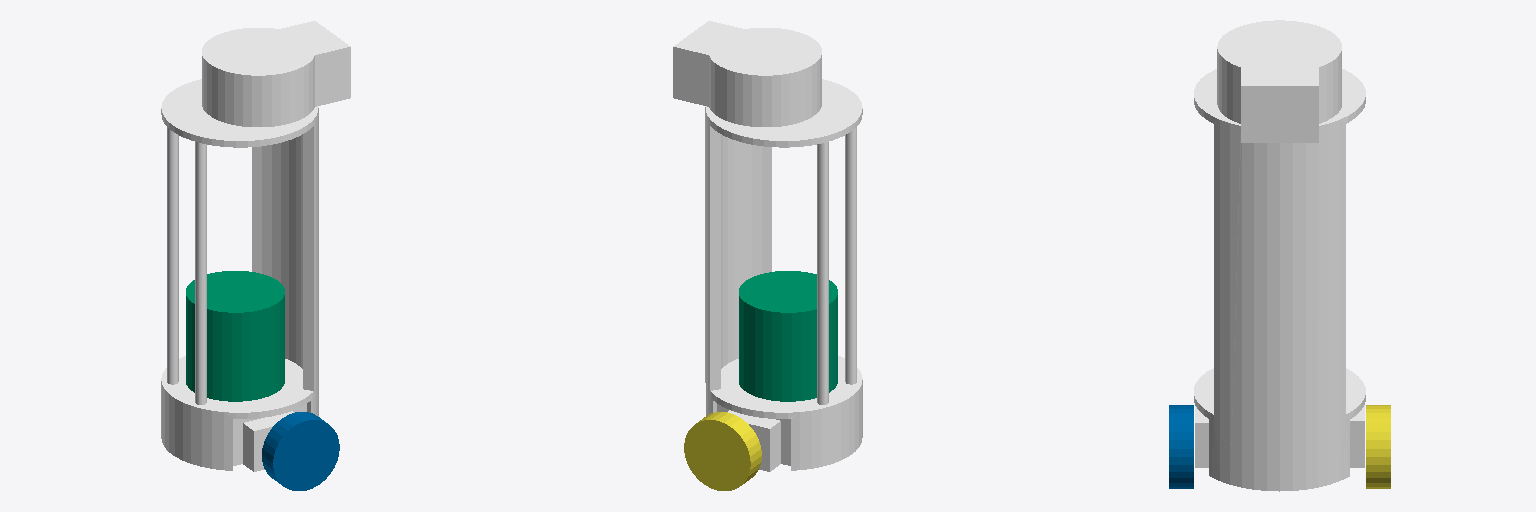
The robot description file, URDF, robot "patrol_robot":
<?xml version="1.0" ?>
<robot name="patrol_robot">

  <link name="base_footprint"/>

  <link name="base_link">
    <inertial>
      <mass value="2"/>
      <origin xyz="0.2 0.1397 0.01" rpy="1.5708 0 -1.5708" />
      <inertia
        ixx="0.0635" ixy="0.0" ixz="0.0"
        iyy="0.0635" iyz="0.0"
        izz="0.0651"/>
    </inertial>

    <visual>
      <origin xyz="0.2 0.1397 0.01" rpy="1.5708 0 -1.5708" /> 
      <geometry>
        <mesh filename="package://robot_desc/meshes/body_link2.stl" scale="0.001 0.001 0.001"/>
      </geometry>
      <material name="white">
        <color rgba="1 1 1 1"/>
      </material>
    </visual>

    <collision>
      <geometry>
        <mesh filename="package://robot_desc/meshes/body_link2.stl" scale="0.001 0.001 0.001"/>
    </geometry>
      <contact_coefficients mu="1" mu2="1" kp="1e+13.0" kd="1.0"/>
    </collision>
  </link>

  <joint name="base_joint" type="fixed">
      <parent link="base_footprint"/>
      <child link="base_link"/>
      <origin xyz="0 0 0.04" rpy="0 0 0"/>
  </joint>

  <link name="weight">
    <inertial>
      <mass value="7"/>
      <inertia ixx="0.03225" ixy="0.0"  ixz="0.0" iyy="0.03225" iyz="0.0" izz="0.02764"/>
      <origin xyz="0 0 0" rpy="0 0 0"/>
    </inertial>
    <visual>
        <geometry>
            <cylinder length="0.1778" radius="0.0889" />
        </geometry>
    </visual>
    <collision>
        <geometry>
            <cylinder length="0.1778" radius="0.0889" />
        </geometry>
    </collision>    
  </link>
  <joint name="weight_joint" type="fixed">
      <parent link="base_footprint"/>
      <child link="weight"/>
      <origin xyz="0 0 0.25" rpy="0 0 0"/>
  </joint>

  <link name="wheel_right">
    <inertial>
      <mass value="0.75"/>
      <inertia ixx="0.001444223" iyy="0.00280875" izz="0.001444223" ixy="0.0" ixz="0.0" iyz="0.0"/>
      <origin xyz="0 0 0" rpy="0 0 0"/>
    </inertial>
    <visual>
        <geometry>
          <cylinder length="0.04" radius="0.06858" />
        </geometry>
    </visual>
    <collision>
        <geometry>
          <cylinder length="0.04" radius="0.06858" />
        </geometry>
    </collision>      
  </link>   
  
  <joint name="wheel_right_joint" type="continuous">
    <origin xyz="0.042 0.16 0.04  " rpy="1.5708 0.0 0.0"/>
    <parent link="base_link"/>
    <child link="wheel_right"/>
    <axis xyz="0.0 0 1"/>
  </joint>

  <link name="wheel_left">
    <inertial>
      <mass value="0.75"/>
      <inertia ixx="0.001444223" iyy="0.00280875" izz="0.001444223" ixy="0.0" ixz="0.0" iyz="0.0" />
      <origin xyz="0 0 0" rpy="0 0 0"/>
    </inertial>
    <visual>
        <geometry>
            <cylinder length="0.04" radius="0.06858" />
        </geometry>
    </visual>
    <collision>
        <geometry>
            <cylinder length="0.04" radius="0.06858" />
        </geometry>
    </collision>    
  </link>
  
  <joint name="wheel_left_joint" type="continuous">
    <origin xyz="0.042 -0.16 0.04" rpy="1.5708 0.0 3.14"/>
    <parent link="base_link"/>
    <child link="wheel_left"/>
    <axis xyz="0.0 0 1"/>
  </joint>
  
  
  <link name="caster">
    <inertial>
      <mass value="1.5"/>
      <inertia ixx="0.0001295" iyy="0.0001295" izz="0.000199322" ixy="0.0" ixz="0.0" iyz="0.0" />
      <origin/>
    </inertial>

    <visual>
      <geometry>
        <mesh filename="package://robot_desc/meshes/front_caster.stl"/>
      </geometry>
      <material name="white">
        <color rgba="1 1 1 1"/>
      </material>
    </visual>

    <collision>
      <geometry>
        <mesh filename="package://robot_desc/meshes/front_caster.stl"/>
      </geometry>
      <contact_coefficients mu="0" kp="1000.0" kd="1.0"/>
    </collision>
  </link>
  
  <joint name="caster_joint" type="continuous">
    <origin xyz="-0.0635 0 -0.01" rpy="0.0 0.0 0.0"/>
    <axis xyz="0 0 1" />
    <parent link="base_link"/>
    <child link="caster"/>
  </joint>  

  <link name="camera_link">
  </link>

  <joint name="camera_joint" type="fixed">
    <origin xyz="-0.16 0.0 0.08" rpy="0 0.0 3.14"/>
    <parent link="base_link"/>
    <child link="camera_link"/>
    <axis xyz="0.0 0.0 1.0"/>
  </joint>

  <gazebo reference="camera_link">
      <sensor type="camera" name="Botcamera">
        <update_rate>30.0</update_rate>
        <camera name="head">
          <horizontal_fov>1.3962634</horizontal_fov>
          <image>
            <width>800</width>
            <height>800</height>
            <format>R8G8B8</format>
          </image>
          <clip>
            <near>0.02</near>
            <far>300</far>
          </clip>
          <noise>
            <type>gaussian</type>
            <mean>0.0</mean>
            <stddev>0.007</stddev>
          </noise>
        </camera>
        <plugin name="camera_controller" filename="libgazebo_ros_camera.so">
          <alwaysOn>true</alwaysOn>
          <updateRate>0.0</updateRate>
          <cameraName>/Botcamera</cameraName>
          <imageTopicName>image_raw</imageTopicName>
          <cameraInfoTopicName>camera_info</cameraInfoTopicName>
          <frameName>camera_link</frameName>
          <hackBaseline>0.07</hackBaseline>
        </plugin>
      </sensor>
      <material>Gazebo/Blue</material>
  </gazebo>

  <joint name="imu_joint" type="fixed">
    <parent link="base_footprint"/>
    <child link="imu_link"/>
    <origin xyz="0.0 0 0" rpy="0 0 0"/>
  </joint>

  <link name="imu_link"/>

  <link name="lidar_link">
    <visual>
        <origin xyz="0 -0.0009 -0.011" rpy="1.5708 0 -1.5708"/>
        <geometry>
            <mesh filename="package://robot_desc/meshes/rplidar.dae" scale="0.001 0.001 0.001"/>
        </geometry>
    </visual> 
    <collision>
        <origin xyz="0 -0.0028 0" rpy="0 0 0"/>
        <geometry>
            <cylinder radius="0.037" length="0.021"/>
        </geometry>
    </collision>
    <inertial>
      <mass value="0.07"/>
      <origin xyz="0 0 0" rpy="0 0 0"/>
      <inertia 
        ixx="0.000262" ixy="0.0" ixz="0.0" 
        iyy="0.000262" iyz="0.0" 
        izz="0.000048"/>
    </inertial>
  </link>

  <joint name="lidar_joint" type="fixed">
      <parent link="base_link"/>
      <child link="lidar_link"/>
      <origin xyz="0 0 0.77" rpy="0 0 0"/>
      <axis xyz="0 0 1"/>
  </joint>

  <gazebo reference="lidar_link">
      <sensor name="lidar" type="ray">
          <pose>0 0 0 0 0 0</pose>
          <always_on>true</always_on>
          <visualize>false</visualize>
          <update_rate>10</update_rate>
          <ray>
              <scan>
                  <horizontal>
                      <samples>360</samples>
                      <min_angle>-3.14</min_angle>
                      <max_angle>3.14</max_angle>
                  </horizontal>
              </scan>
              <range>
                  <min>0.15</min>
                  <max>6.0</max>
                  <!-- <max>12.0</max> -->
                  <resolution>0.01500</resolution>
          </range>
              <noise>
                  <type>gaussian</type>
                  <mean>0.0</mean>
                  <stddev>0.01</stddev>
              </noise>
          </ray>
          <plugin name="lidar_controller" filename="libgazebo_ros_ray_sensor.so">
              <ros>
              <remapping>~/out:=scan</remapping>
              </ros>
              <output_type>sensor_msgs/LaserScan</output_type>
              <frame_name>lidar_link</frame_name>
          </plugin>
      </sensor>
  </gazebo>

  <gazebo>
    <plugin filename="libgazebo_ros_diff_drive.so" name="gazebo_base_controller">
      <odometry_frame>odom</odometry_frame>
      <commandTopic>cmd_vel</commandTopic>
      <publish_odom>true</publish_odom>
      <publish_odom_tf>true</publish_odom_tf>
      <update_rate>15.0</update_rate>
      <left_joint>wheel_left_joint</left_joint>
      <right_joint>wheel_right_joint</right_joint>
      <wheel_separation>0.8</wheel_separation>
      <wheel_diameter>0.3</wheel_diameter>
      <max_wheel_acceleration>0.7</max_wheel_acceleration>
      <robotBaseFrame>base_link</robotBaseFrame>

    </plugin>
  </gazebo>


  <gazebo reference="base_link">
    <material>Gazebo/Gray</material>
  </gazebo>
  <gazebo reference="caster">
    <material>Gazebo/White</material>
  </gazebo>
  
  <gazebo reference="wheel_right">
    <material>Gazebo/Orange</material>
  </gazebo>
  <gazebo reference="wheel_left">
    <material>Gazebo/Orange</material>
  </gazebo>  

  <ros2_control name="RobotSystem" type="system">
      <hardware>
          <plugin>diffdrive_arduino/DiffDriveArduinoHardware</plugin>
              <param name="left_wheel_name">wheel_left_joint</param>
              <param name="right_wheel_name">wheel_right_joint</param>
              <param name="loop_rate">30</param>
              <param name="device">/dev/ttyUSB1</param>
              <param name="baud_rate">115200</param>
              <param name="timeout_ms">1000</param>
              <param name="enc_counts_per_rev">616</param> 
      </hardware>
      <joint name="wheel_left_joint">
          <command_interface name="velocity">
              <param name="min">-10</param>
              <param name="max">10</param>
          </command_interface>
          <state_interface name="position"/>
          <state_interface name="velocity"/>
      </joint>
      <joint name="right_wheel_joint">
          <command_interface name="velocity">
              <param name="min">-10</param>
              <param name="max">10</param>
          </command_interface>
          <state_interface name="position"/>
          <state_interface name="velocity"/>
      </joint>
  </ros2_control>

  <transmission name="wheel_left_trans">
    <type>transmission_interface/SimpleTransmission</type>
    <joint name="wheel_left_joint">
      <hardwareInterface>hardware_interface/VelocityJointInterface</hardwareInterface>
    </joint>
    <actuator name="wheel_left_motor">
      <hardwareInterface>hardware_interface/VelocityJointInterface</hardwareInterface>
      <mechanicalReduction>1</mechanicalReduction>
    </actuator>
  </transmission>

  <transmission name="wheel_right_trans">
    <type>transmission_interface/SimpleTransmission</type>
    <joint name="wheel_right_joint">
      <hardwareInterface>hardware_interface/VelocityJointInterface</hardwareInterface>
    </joint>
    <actuator name="wheel_right_motor">
      <hardwareInterface>hardware_interface/VelocityJointInterface</hardwareInterface>
      <mechanicalReduction>1</mechanicalReduction>
    </actuator>
  </transmission>

</robot>
  

--- Facts derived from the render (not from the file) ---
3 views of the same robot in one strip: view 1: azimuth 30°, elevation 25°; view 2: azimuth 150°, elevation 25°; view 3: azimuth 270°, elevation 25° (orthographic).
Model patrol_robot with 9 links and 8 joints (3 continuous, 5 fixed), rooted at base_footprint, posed all joints at 0.
Links seen in each view (by area): view 1: base_link, weight, wheel_left; view 2: base_link, weight, wheel_right; view 3: base_link, wheel_right, wheel_left.
Boxes of the visible links, left/top/right/bottom form: base_link: left=161, top=21, right=350, bottom=471; weight: left=186, top=271, right=284, bottom=401; wheel_left: left=262, top=412, right=339, bottom=490; base_link: left=673, top=21, right=862, bottom=471; weight: left=739, top=271, right=837, bottom=401; wheel_right: left=684, top=412, right=761, bottom=490; base_link: left=1194, top=20, right=1365, bottom=491; wheel_right: left=1366, top=405, right=1390, bottom=488; wheel_left: left=1169, top=405, right=1193, bottom=488.
Bounding box of the posed robot: 0.3304 × 0.3601 × 0.7879 m (x, y, z).
1 mesh visuals loaded from 3 distinct referenced files (1 binary STL); not drawn: 2 (reference not matched to a file when rendering).
